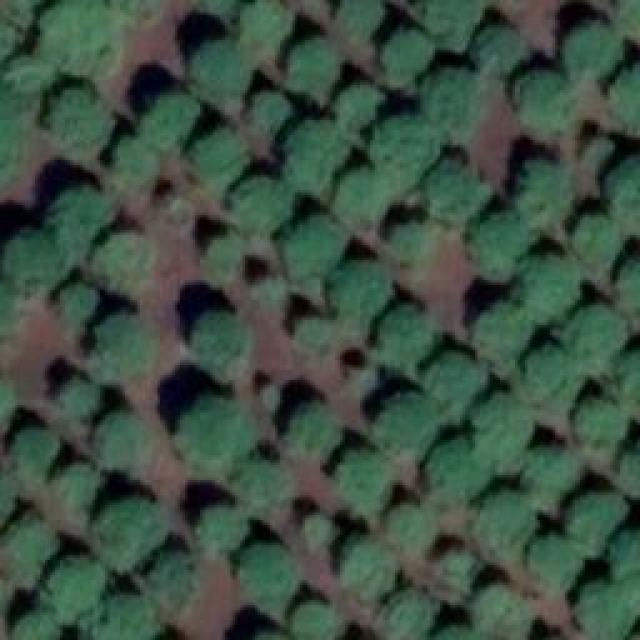Tree: (173, 393, 256, 468), (42, 0, 119, 72), (90, 495, 163, 568), (50, 85, 113, 158), (285, 120, 350, 188), (282, 215, 350, 280), (568, 492, 633, 560), (518, 158, 583, 223), (560, 10, 625, 75), (328, 448, 391, 511), (470, 582, 538, 640), (193, 38, 248, 108), (93, 230, 156, 290), (330, 260, 390, 323), (383, 118, 443, 181), (470, 218, 533, 278), (380, 393, 440, 456), (565, 303, 628, 363), (92, 310, 150, 375), (428, 442, 493, 500), (480, 493, 538, 558), (478, 302, 533, 370), (525, 250, 583, 313), (5, 230, 65, 290), (343, 538, 403, 598), (145, 93, 203, 153), (520, 70, 575, 133), (55, 187, 113, 245), (240, 545, 298, 603), (482, 398, 530, 468), (430, 173, 493, 226), (235, 178, 290, 238), (427, 355, 485, 410), (385, 305, 440, 363), (100, 590, 163, 640), (193, 312, 246, 370), (288, 395, 341, 453), (98, 415, 153, 470), (288, 38, 341, 93), (380, 28, 433, 83), (525, 448, 580, 501), (578, 585, 631, 640), (245, 450, 295, 508), (203, 500, 256, 553), (573, 395, 626, 448), (427, 0, 485, 48), (48, 560, 103, 610), (475, 25, 528, 75), (575, 218, 625, 271), (380, 590, 433, 640), (0, 90, 25, 195), (533, 535, 578, 593), (237, 0, 287, 52), (428, 72, 481, 120), (5, 525, 55, 575), (340, 165, 385, 220), (523, 345, 568, 400), (388, 502, 438, 550), (113, 145, 158, 198), (13, 55, 56, 110), (63, 375, 108, 425), (612, 58, 640, 133), (55, 462, 98, 510), (335, 0, 380, 45), (18, 435, 61, 478), (343, 83, 386, 126), (617, 152, 640, 232), (615, 530, 640, 603), (200, 127, 238, 175), (435, 550, 480, 590), (160, 553, 195, 603), (293, 600, 336, 640), (205, 238, 243, 283), (250, 90, 290, 130), (395, 223, 435, 263), (15, 607, 62, 640), (60, 283, 98, 323), (615, 348, 640, 408), (302, 510, 340, 545), (110, 0, 163, 25), (622, 255, 640, 320), (295, 320, 328, 353), (622, 437, 640, 495)
